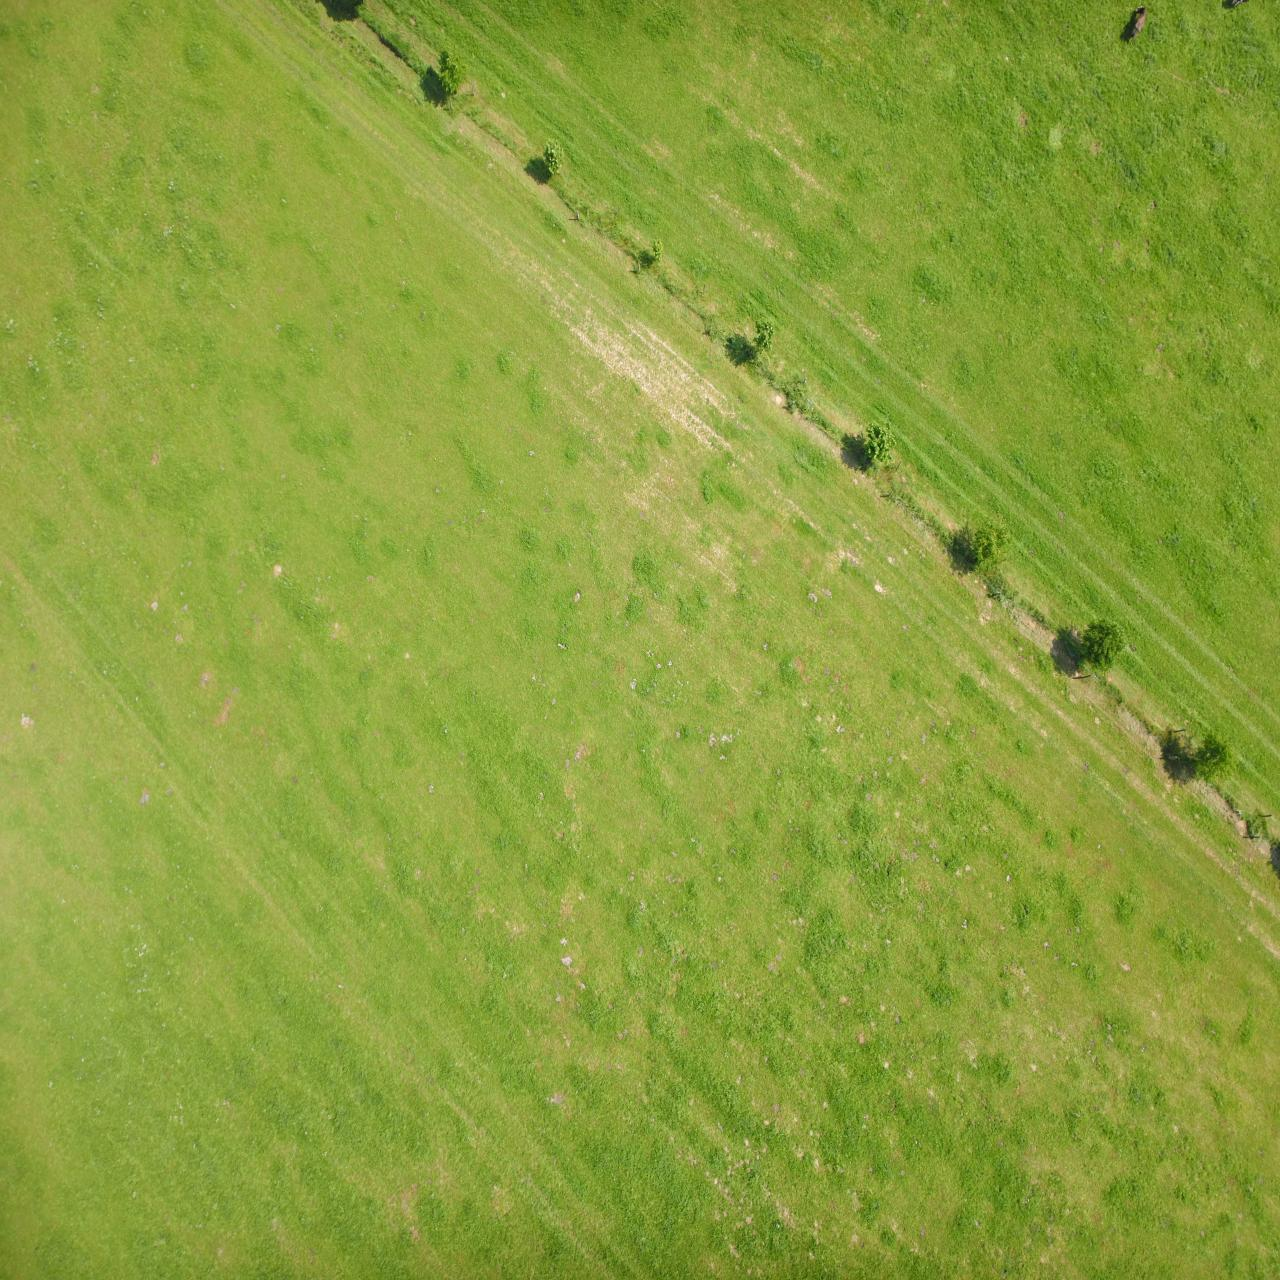cow: (1126, 4, 1151, 38)
